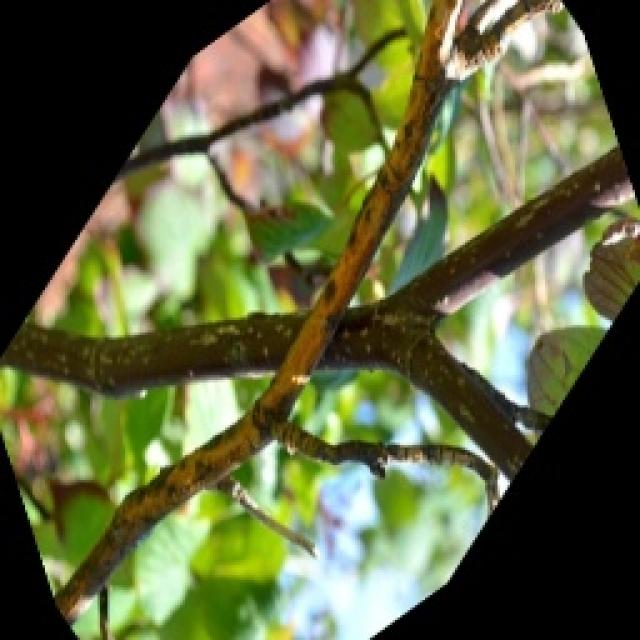Golden_canker: (0, 24, 640, 619)
